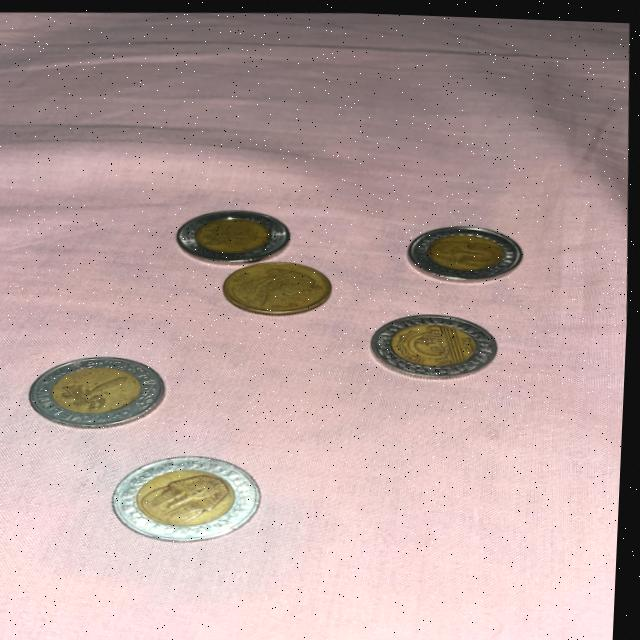Half Pound: (222, 250, 334, 317)
One Pound: (111, 445, 271, 542), (21, 345, 168, 425), (364, 301, 504, 378), (398, 214, 531, 284), (170, 199, 293, 264)
